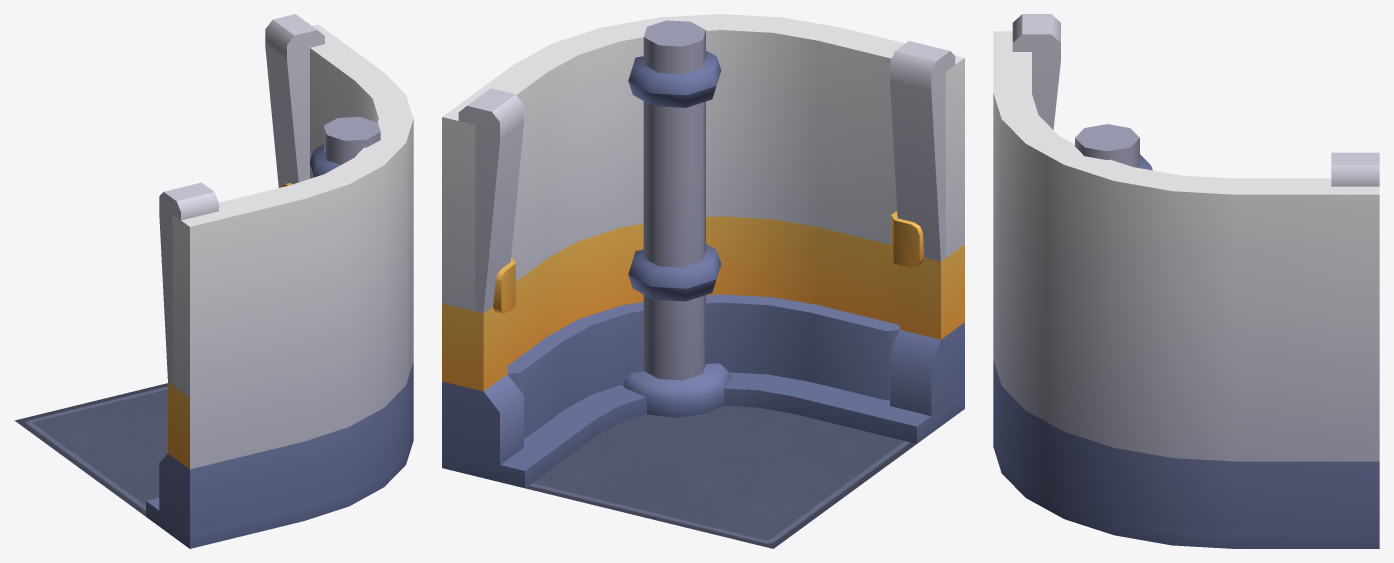
Rendered from kenney-space-template-corner.glb.
The picture shows the model from 3 angles, left to right: view 1: azimuth 30°, elevation 25°; view 2: azimuth 150°, elevation 25°; view 3: azimuth 270°, elevation 25°; orthographic projection. The views are drawn at different scales.
Parts seen in each view (by area): view 1: template-corner; view 2: template-corner; view 3: template-corner.
Part boxes in pixels (x1,y1,x2,y2): template-corner: [14, 14, 413, 548]; template-corner: [442, 14, 964, 548]; template-corner: [993, 14, 1379, 548].
Bounding box in the file's own units: 3 × 3.19 × 3.
Materials: 1 (1 with a texture image).
